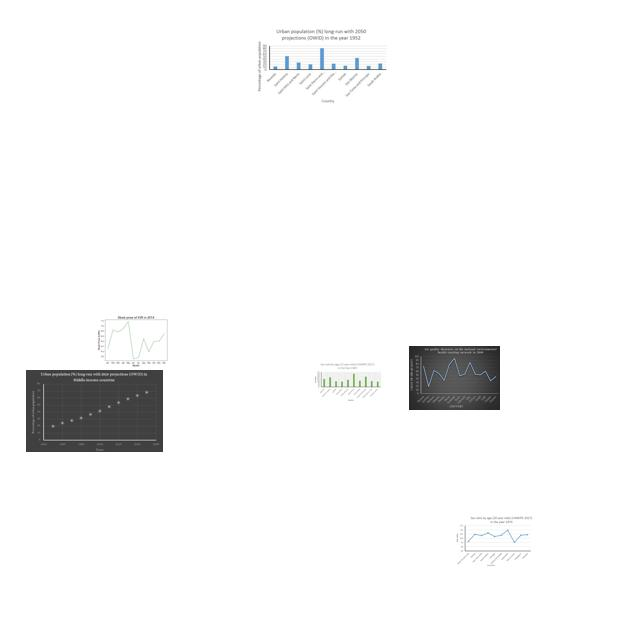Graph: (26, 370, 163, 452), (254, 27, 388, 104), (409, 346, 500, 410), (95, 310, 175, 370), (455, 516, 533, 567), (313, 362, 382, 402)
